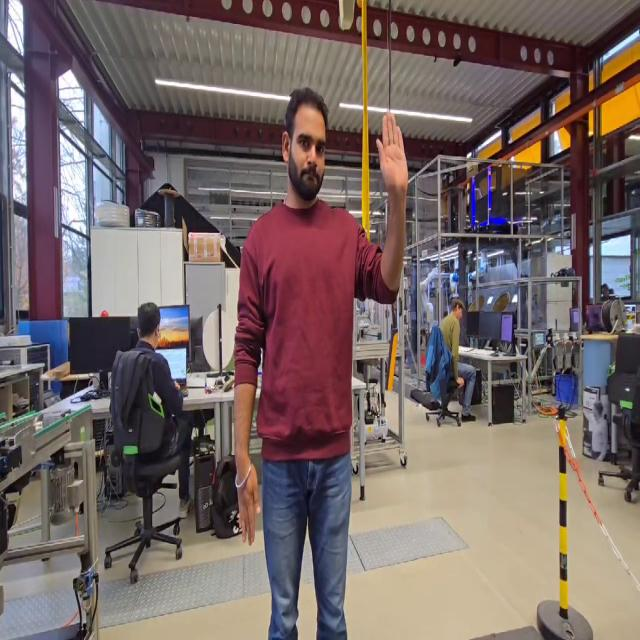open_palm: (372, 106, 412, 202)
